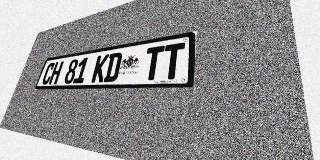1: (72, 57, 90, 83)
8: (63, 58, 80, 84)
C: (41, 62, 56, 85)
D: (103, 52, 123, 82)
H: (48, 61, 64, 84)
K: (91, 54, 110, 83)
T: (161, 42, 185, 80), (142, 45, 165, 80)
